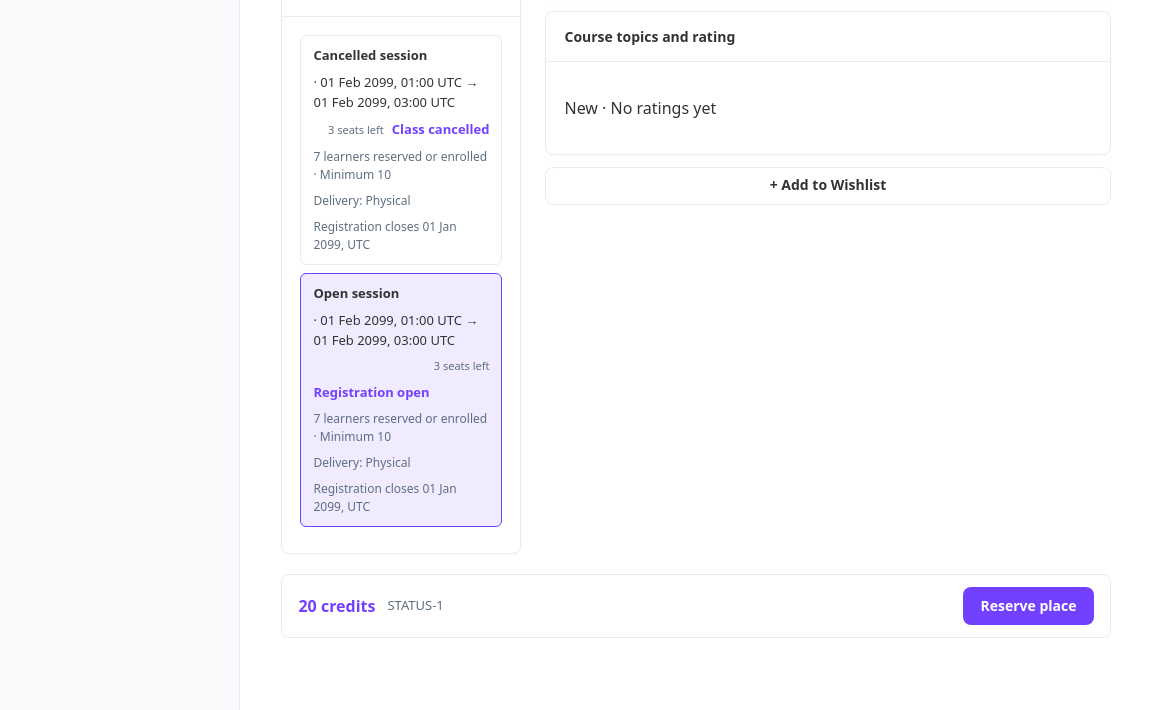
Member course enrolment › selects an open alternative and shows the whole Intake count
The width and height of the screenshot is (1152, 710).
(page scrolled)
Expected: the text "7 learners reserved or enrolled · Minimum 10" is shown 2 times, [314, 148, 490, 184]; [314, 410, 490, 446]
Click the button "Reserve place". click: click(1028, 606)
box: [964, 587, 1094, 625]
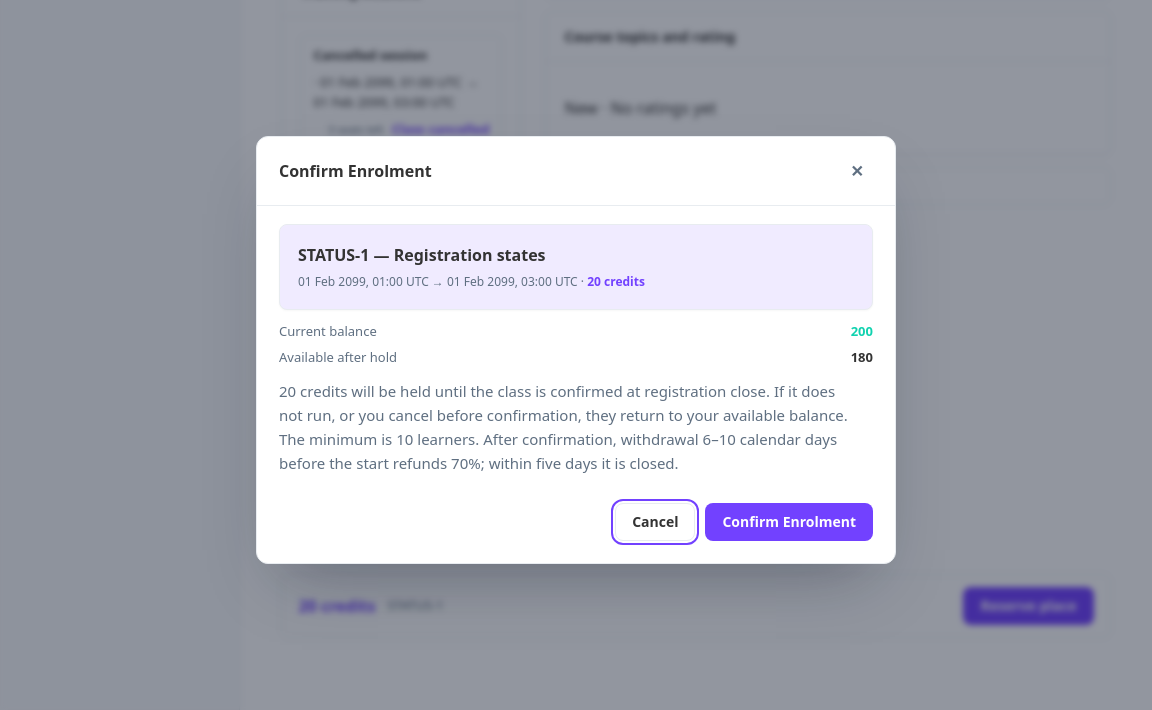
Expected: the heading "Confirm Enrolment" is shown, [279, 159, 432, 183]
